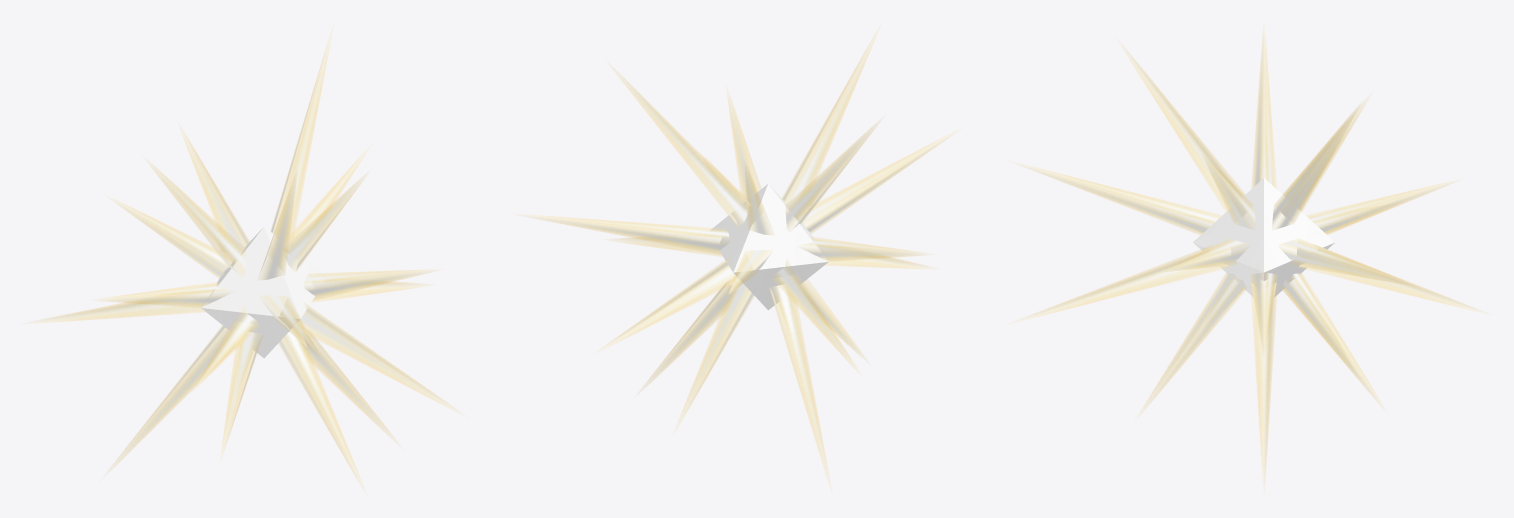
File: spark.glb
3 renders of one model, left to right at view 1: azimuth 30°, elevation 25°; view 2: azimuth 150°, elevation 25°; view 3: azimuth 270°, elevation 25°, orthographic. The views are drawn at different scales.
Parts seen in each view (by area): view 1: spark; view 2: spark; view 3: spark.
Boxes of the visible parts, left/top/right/bottom form: spark: left=33, top=36, right=458, bottom=487; spark: left=525, top=32, right=954, bottom=483; spark: left=1020, top=31, right=1480, bottom=483.
Size of the model in its own units: 23.57 by 24.93 by 28.06.
Materials: 1 (1 with a texture image).
